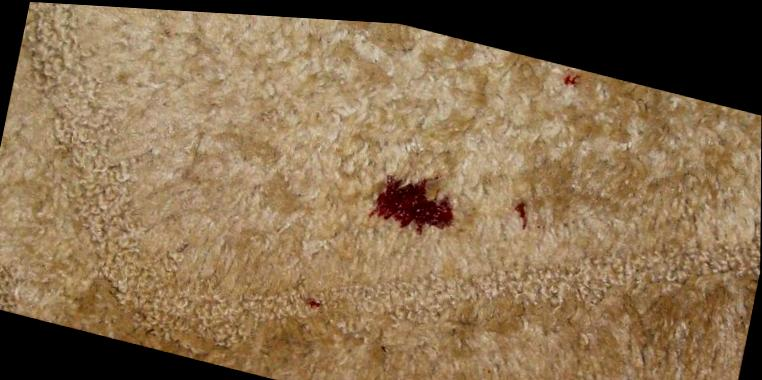Fire: (369, 170, 454, 231), (513, 197, 529, 224), (564, 68, 581, 79), (308, 297, 322, 305)
